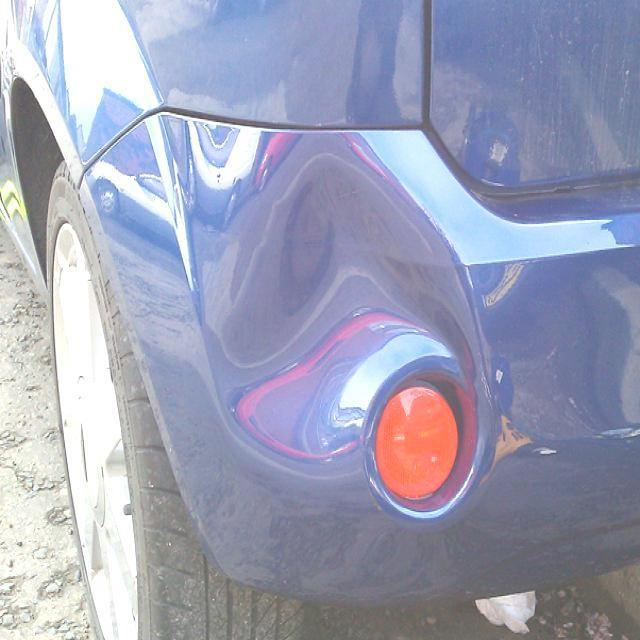minor: (172, 117, 505, 514)
